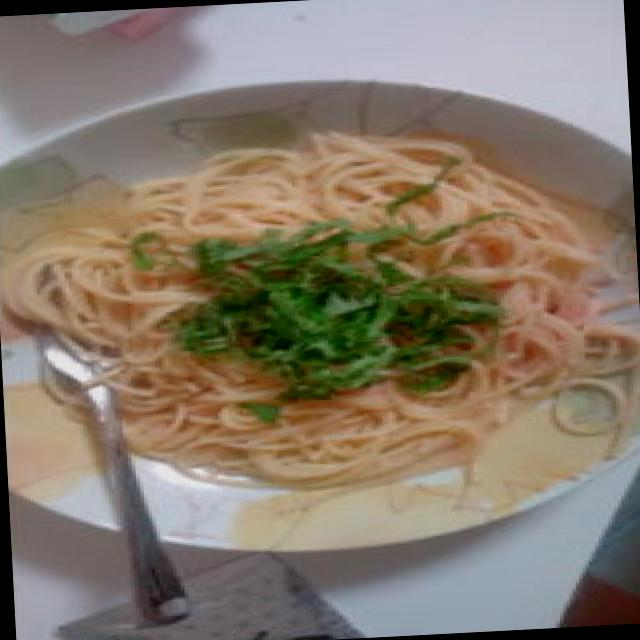Pasta: (0, 110, 640, 469)
